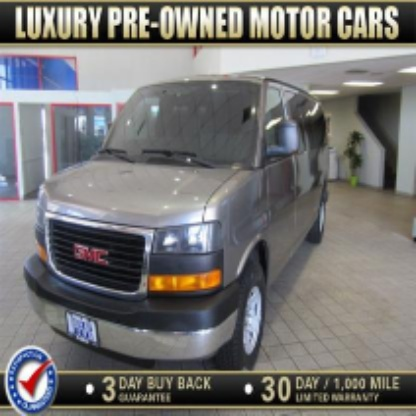Vehicle: (21, 73, 332, 374)
